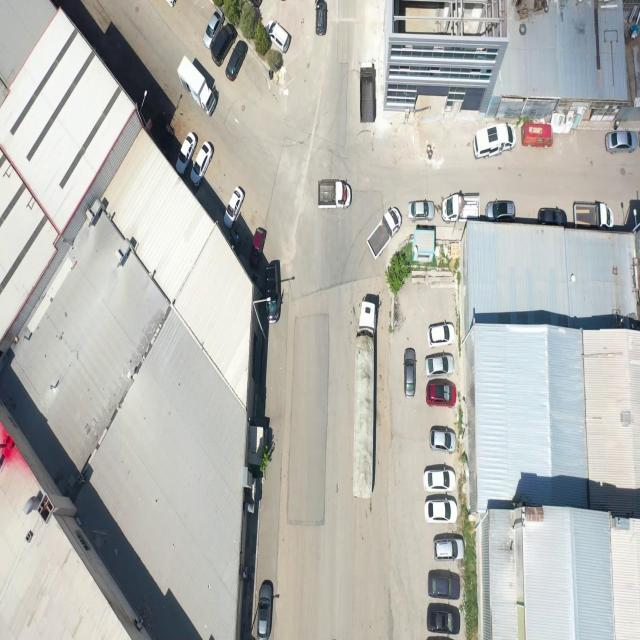p3rson: (253, 274, 258, 284)
